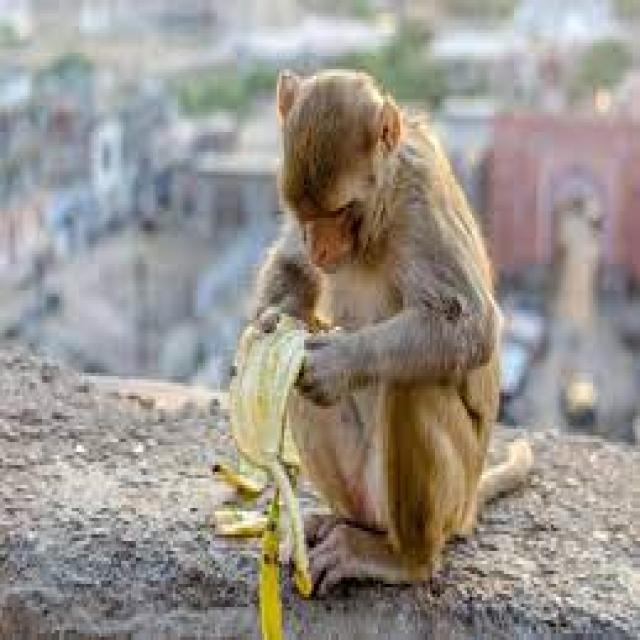monkey: (259, 80, 497, 625)
